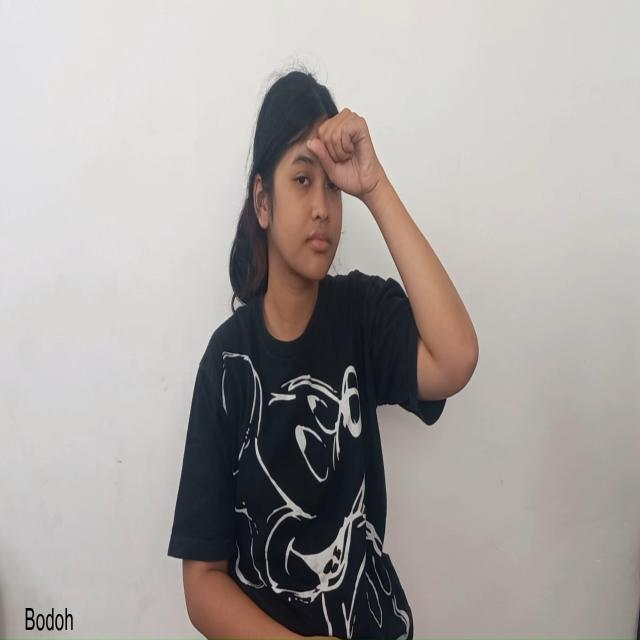Bodoh -BISINDO-: (214, 52, 445, 349)
